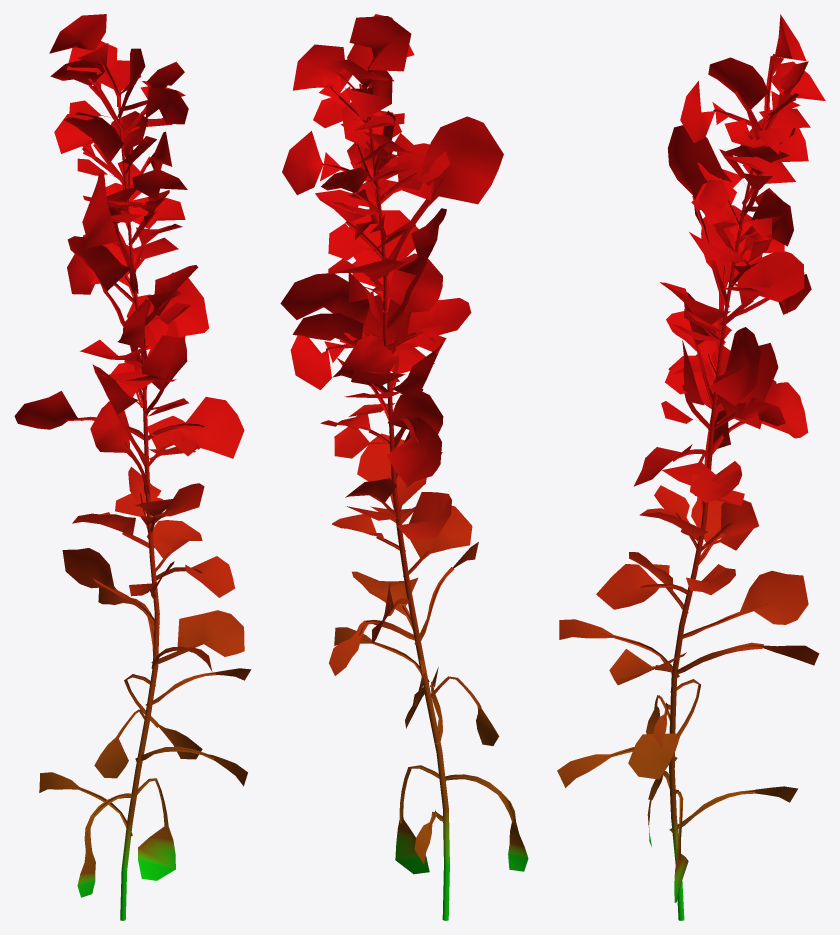
The model's file is Var2_LOD0.fbx.
The picture shows the model from 3 angles, left to right: view 1: azimuth 30°, elevation 25°; view 2: azimuth 150°, elevation 25°; view 3: azimuth 270°, elevation 25°; orthographic projection. The views are drawn at different scales.
Visible parts, largest first — view 1: _9858_Var2_LOD0; view 2: _9858_Var2_LOD0; view 3: _9858_Var2_LOD0.
Part boxes in pixels (x1,y1,x2,y2): _9858_Var2_LOD0: [14, 14, 251, 920]; _9858_Var2_LOD0: [280, 14, 528, 920]; _9858_Var2_LOD0: [557, 14, 825, 920].
Bounding box in the file's own units: 19.3 × 90.04 × 24.13.
